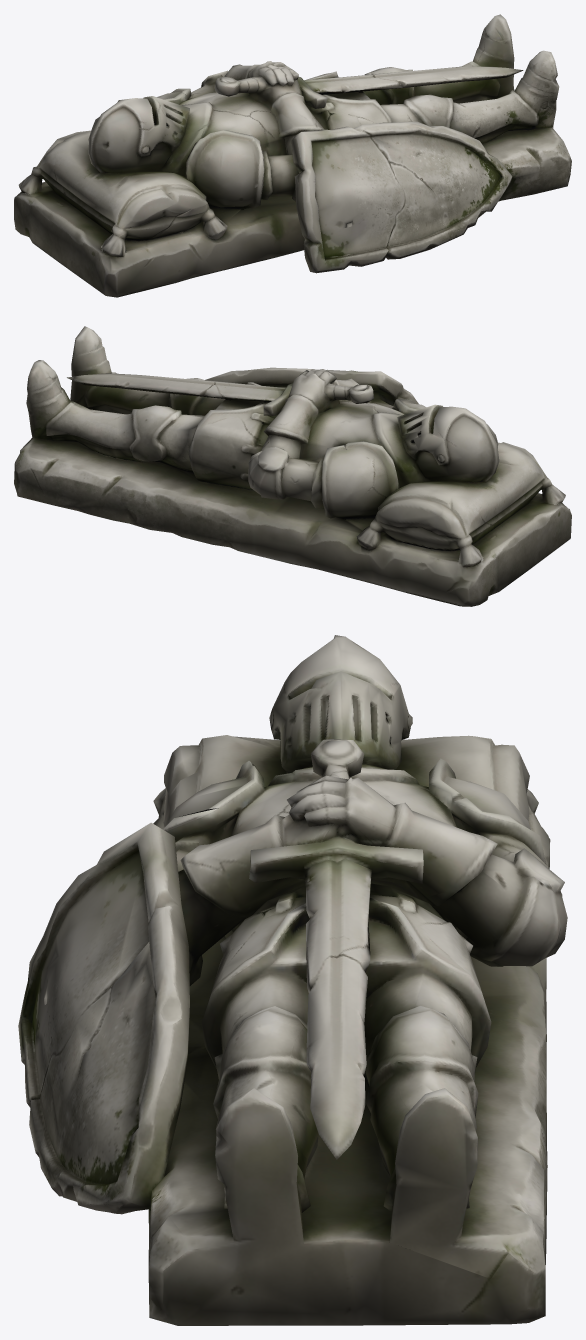
The model's file is FallenKnight.gltf.
The picture shows the model from 3 angles, top to bottom: view 1: azimuth 30°, elevation 25°; view 2: azimuth 150°, elevation 25°; view 3: azimuth 270°, elevation 25°; orthographic projection. The views are drawn at different scales.
Visible parts, largest first — view 1: lo; view 2: lo; view 3: lo.
Part boxes in pixels (bbox=[...]): lo: bbox=[14, 14, 571, 297]; lo: bbox=[14, 326, 571, 606]; lo: bbox=[18, 635, 567, 1325].
Bounding box in the file's own units: 4.69 × 1.48 × 2.39.
Materials: 1 (1 with a texture image).
